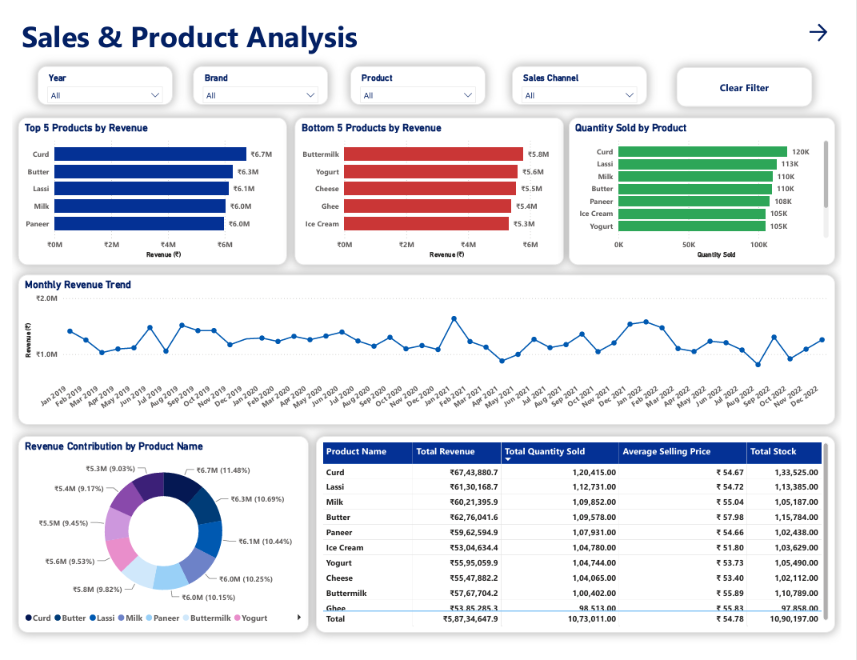

The page's visual inventory and layout, read from the dashboard file:
{"tool":"powerbi","page":{"name":"Sales & Product Analysis ","canvas":[1370,1050],"ordinal":2},"visuals":[{"type":"textbox","box":[10,0,1360,80],"z":0},{"type":"slicer","fields":{"Values":["Calendar.Year"]},"box":[41.7,88.3,222.9,64.3],"z":1000,"group":"g1"},{"type":"clusteredBarChart","title":"Top 5 Products by Revenue","fields":{"Category":["Fact_DairySales.Product Name"],"Y":["Measures (2).Total Revenue"]},"box":[10,172.9,444.3,244.3],"z":1000},{"type":"slicer","fields":{"Values":["Fact_DairySales.Brand"]},"box":[298.8,88.3,222.9,64.3],"z":2000,"group":"g1"},{"type":"clusteredBarChart","title":"Bottom 5 Products by Revenue","fields":{"Category":["Fact_DairySales.Product Name"],"Y":["Measures (2).Total Revenue"]},"box":[466.7,173.3,445,243.3],"z":2000},{"type":"slicer","fields":{"Values":["Fact_DairySales.Product Name"]},"box":[558.8,88.3,222.9,64.3],"z":3000,"group":"g1"},{"type":"lineChart","title":"Monthly Revenue Trend","fields":{"Y":["Measures (2).Total Revenue"],"Category":["Calendar.Year Month"]},"box":[10,432.9,1350,248.6],"z":3000},{"type":"slicer","fields":{"Values":["Fact_DairySales.Sales Channel"]},"box":[826,88.3,222.9,64.3],"z":4000,"group":"g1"},{"type":"clusteredBarChart","title":"Quantity Sold by Product","fields":{"Y":["Measures (2).Total Quantity Sold"],"Category":["Fact_DairySales.Product Name"]},"box":[920,173.3,440,243.3],"z":4000},{"type":"group","id":"g1","title":"Group 1","box":[41.7,88.3,1006.7,65],"z":5000},{"type":"donutChart","title":"Revenue Contribution by Product Name","fields":{"Y":["Measures (2).Total Revenue"],"Category":["Fact_DairySales.Product Name"]},"box":[10,700,480,325],"z":6000},{"type":"tableEx","fields":{"Values":["Fact_DairySales.Product Name","Measures (2).Total Revenue","Measures (2).Total Quantity Sold","Measures (2).Average Selling Price","Measures (2).Total Stock"]},"box":[501.7,700,858.3,325],"z":7000},{"type":"actionButton","box":[1098.3,90,223.3,65],"z":8000},{"type":"actionButton","box":[1311.7,13.3,48.3,38.3],"z":9000}]}

Visuals, with their boxes in screenshot pixels (x1, y1, x2, y2), scaled from the page's 1370x1050 canvas onto the 857x660 screenshot:
textbox: [left=6, top=0, right=856, bottom=50]
slicer - Calendar.Year: [left=26, top=56, right=166, bottom=96]
"Top 5 Products by Revenue" clusteredBarChart: [left=6, top=109, right=284, bottom=262]
slicer - Fact_DairySales.Brand: [left=187, top=56, right=326, bottom=96]
"Bottom 5 Products by Revenue" clusteredBarChart: [left=292, top=109, right=570, bottom=262]
slicer - Fact_DairySales.Product Name: [left=350, top=56, right=489, bottom=96]
"Monthly Revenue Trend" lineChart: [left=6, top=272, right=851, bottom=428]
slicer - Fact_DairySales.Sales Channel: [left=517, top=56, right=656, bottom=96]
"Quantity Sold by Product" clusteredBarChart: [left=576, top=109, right=851, bottom=262]
"Group 1" group: [left=26, top=56, right=656, bottom=96]
"Revenue Contribution by Product Name" donutChart: [left=6, top=440, right=307, bottom=644]
tableEx - Fact_DairySales.Product Name x Measures (2).Total Revenue: [left=314, top=440, right=851, bottom=644]
actionButton: [left=687, top=57, right=827, bottom=97]
actionButton: [left=821, top=8, right=851, bottom=32]
